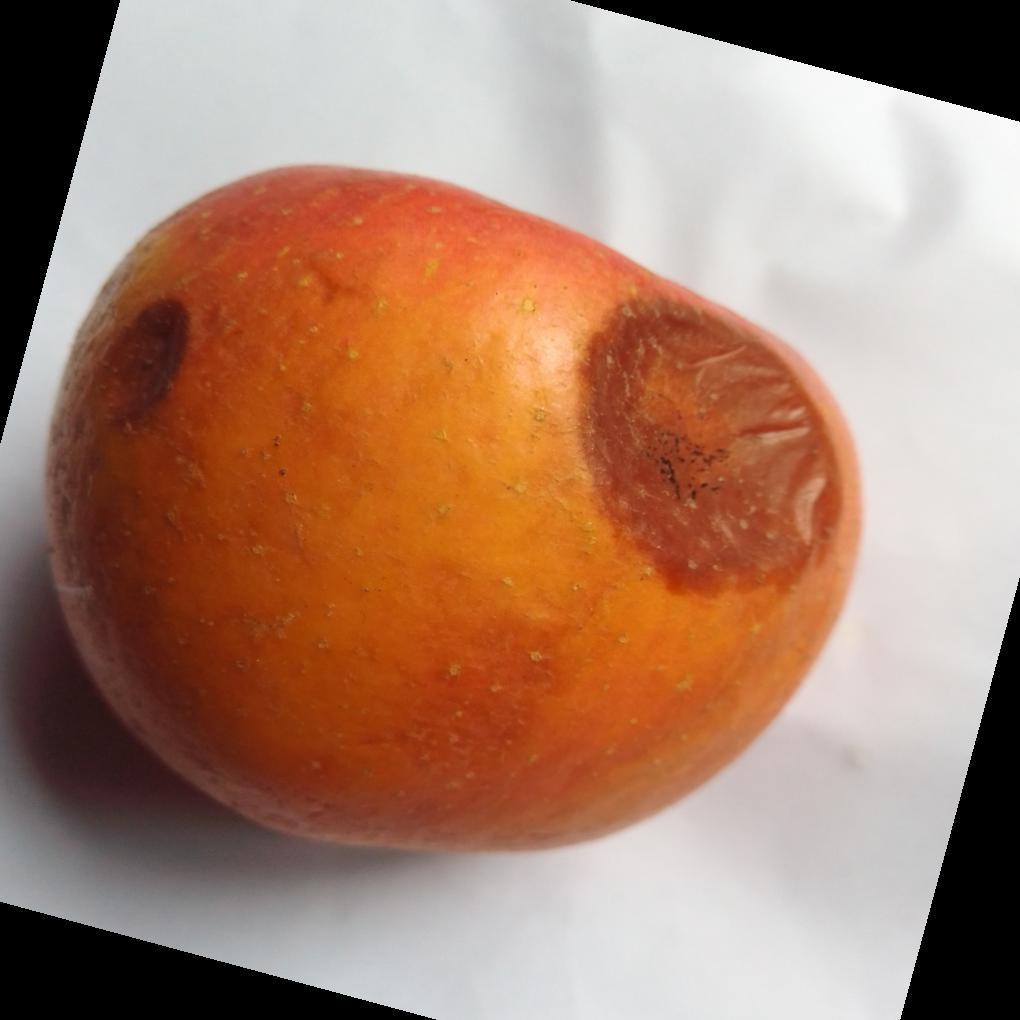FreshOrange: (40, 163, 866, 861)
